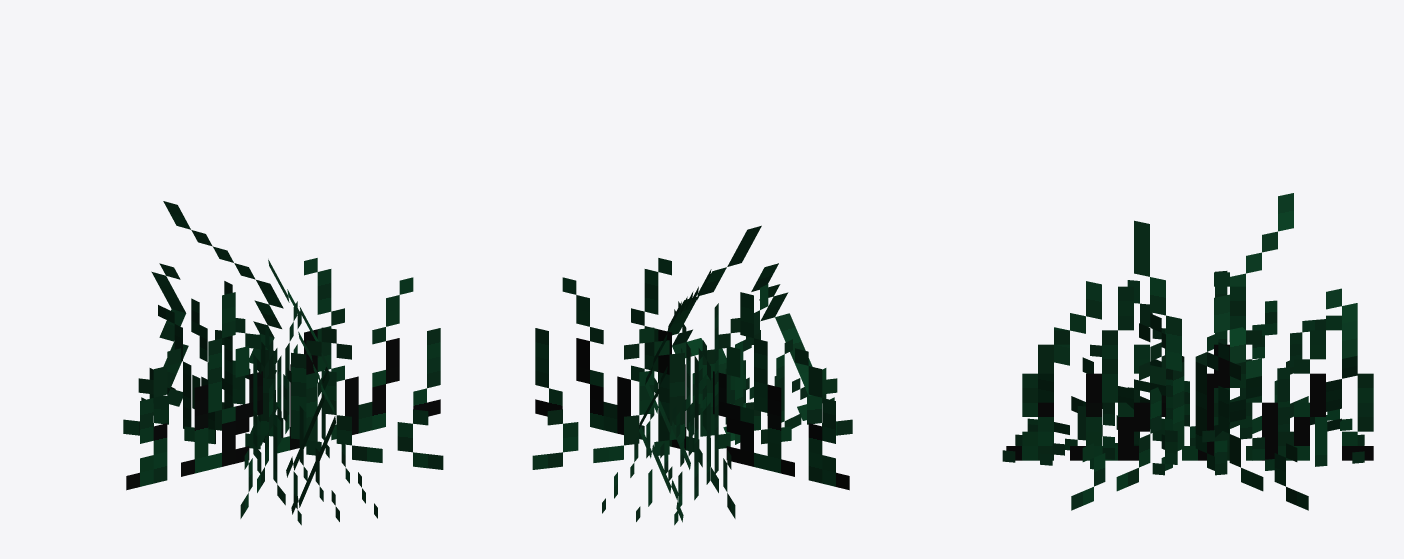
Rendered from Foliage2D.fbx.
The picture shows the model from 3 angles, left to right: view 1: azimuth 30°, elevation 25°; view 2: azimuth 150°, elevation 25°; view 3: azimuth 270°, elevation 25°; orthographic projection.
Parts seen in each view (by area): view 1: SM_Grass_Plane_1, SM_Grass_Plane_2, SM_Grass_Plane_0, SM_Grass_Plane_3, SM_Grass_Plane_4; view 2: SM_Grass_Plane_1, SM_Grass_Plane_2, SM_Grass_Plane_0, SM_Grass_Plane_3, SM_Grass_Plane_4; view 3: SM_Grass_Plane_4, SM_Grass_Plane_3, SM_Grass_Plane_1, SM_Grass_Plane_0, SM_Grass_Plane_2.
Part boxes in pixels (left/top/right/bottom): SM_Grass_Plane_1: left=123, top=301, right=443, bottom=518; SM_Grass_Plane_2: left=140, top=258, right=440, bottom=483; SM_Grass_Plane_0: left=126, top=329, right=440, bottom=490; SM_Grass_Plane_3: left=141, top=281, right=377, bottom=525; SM_Grass_Plane_4: left=151, top=201, right=335, bottom=514; SM_Grass_Plane_1: left=532, top=301, right=852, bottom=518; SM_Grass_Plane_2: left=535, top=258, right=835, bottom=483; SM_Grass_Plane_0: left=535, top=329, right=849, bottom=490; SM_Grass_Plane_3: left=602, top=284, right=834, bottom=525; SM_Grass_Plane_4: left=638, top=225, right=812, bottom=522; SM_Grass_Plane_4: left=1038, top=193, right=1357, bottom=445; SM_Grass_Plane_3: left=1002, top=271, right=1364, bottom=475; SM_Grass_Plane_1: left=1071, top=313, right=1308, bottom=510; SM_Grass_Plane_0: left=1006, top=344, right=1373, bottom=460; SM_Grass_Plane_2: left=1022, top=272, right=1373, bottom=460.
Size of the model in its own units: 200 by 200 by 200.
5 materials, 5 textured.
